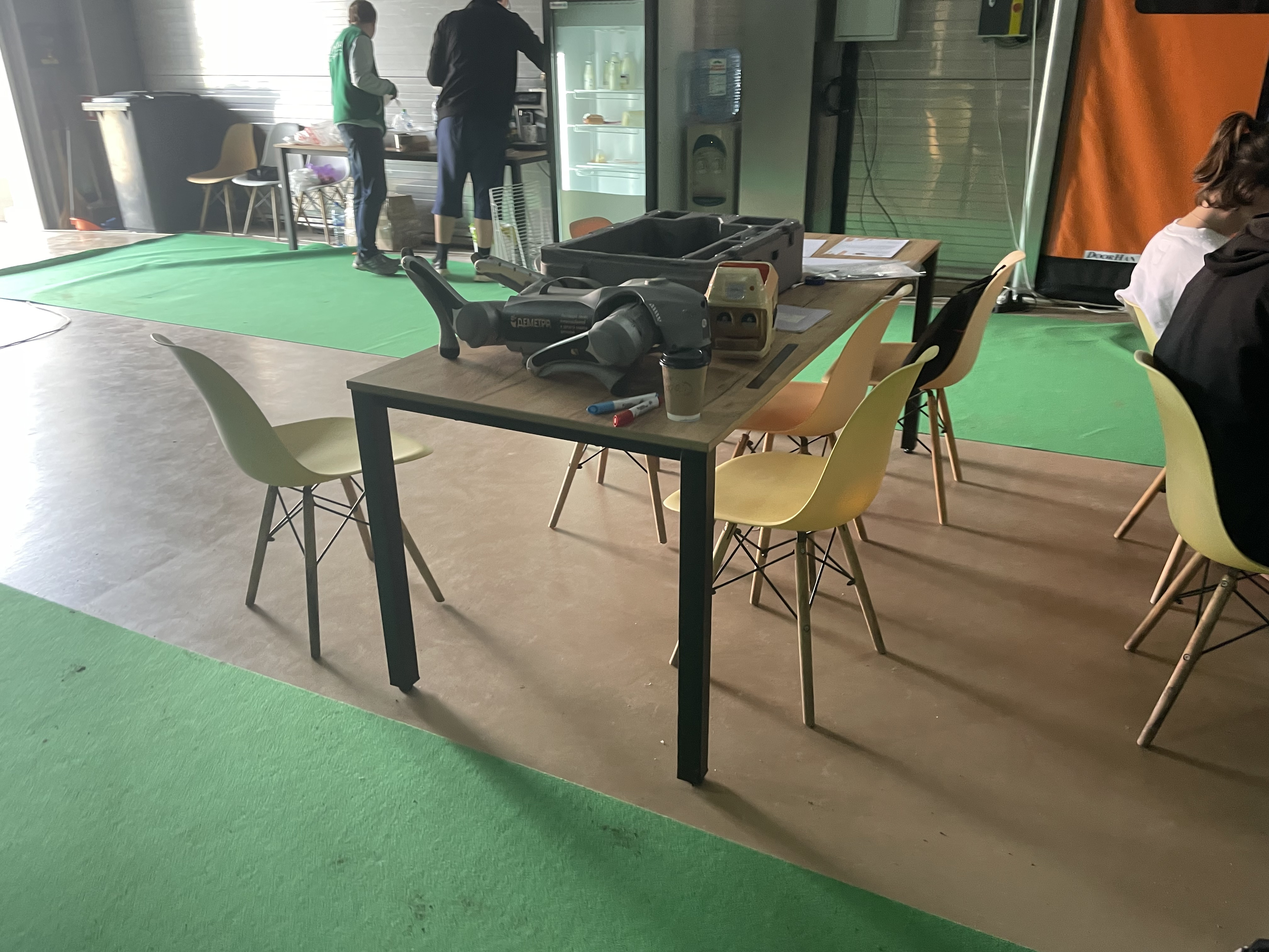cup: (659, 344, 710, 423)
